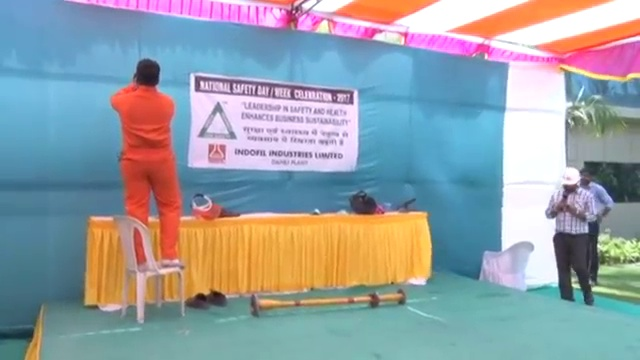helmet: (559, 165, 580, 188)
helmet_off: (135, 56, 161, 88), (579, 165, 592, 189)
helmet_on: (559, 165, 581, 198)
person: (111, 54, 187, 270), (545, 164, 595, 306), (580, 164, 614, 285)
